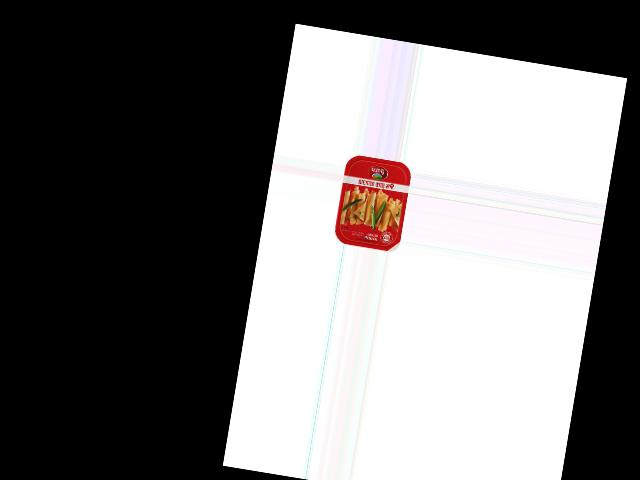cheese: (332, 153, 412, 253)
